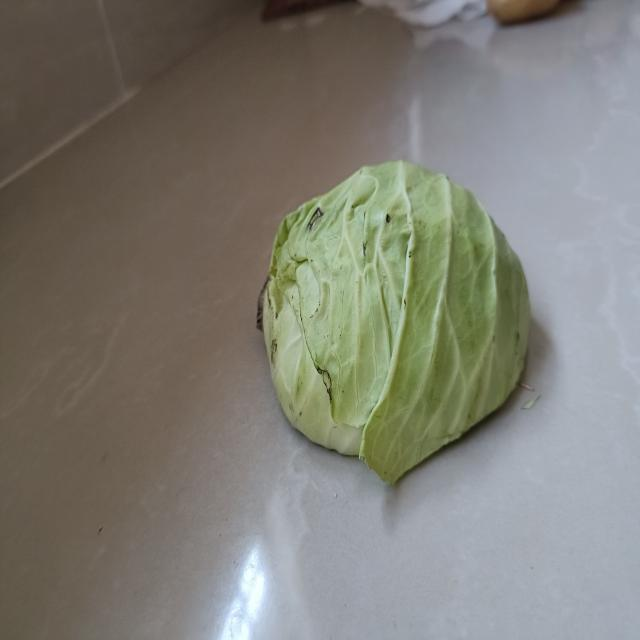cabbage: (255, 155, 536, 489)
